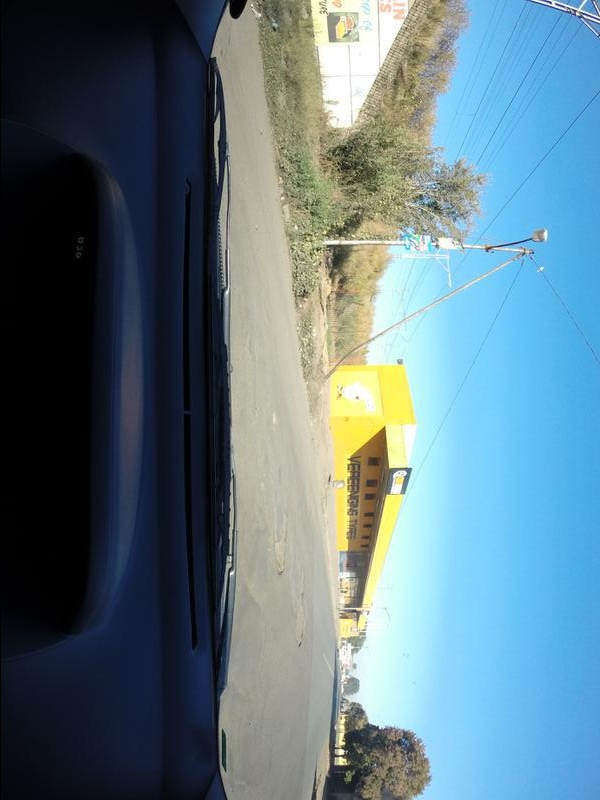pothole: (290, 590, 307, 645), (272, 536, 289, 576)
